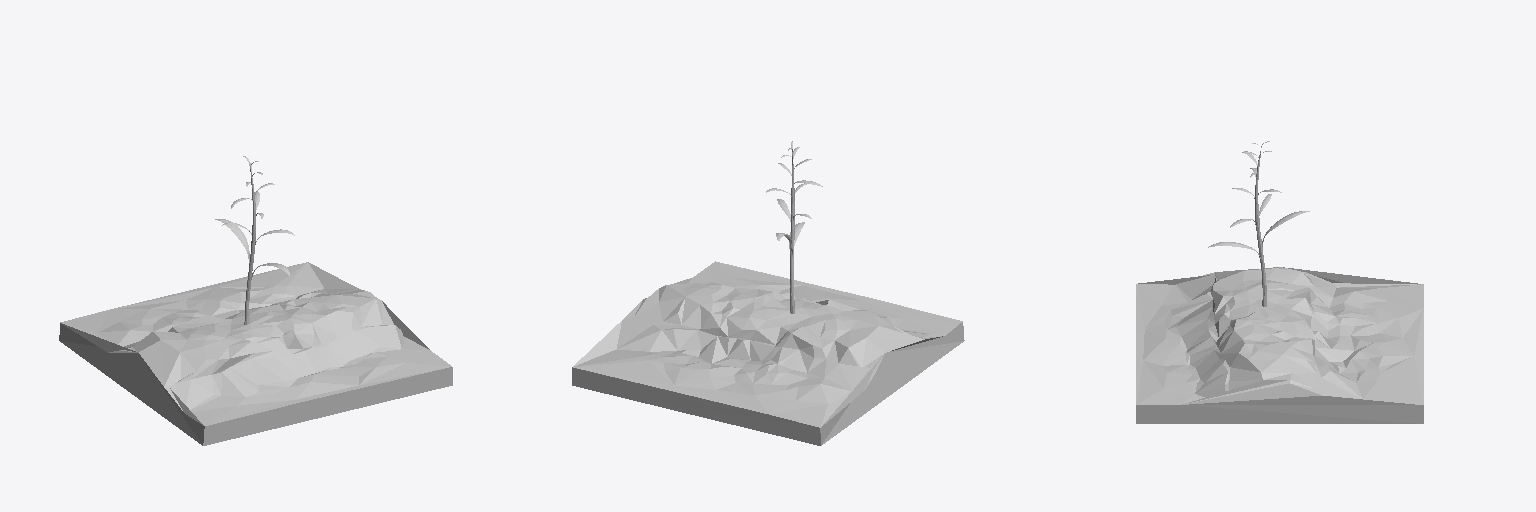
File: bedeng_kangkung_1.obj
3 views of the same model, side by side, from view 1: azimuth 30°, elevation 25°; view 2: azimuth 150°, elevation 25°; view 3: azimuth 270°, elevation 25° (orthographic).
Visible parts, largest first — view 1: PP_Meadow_Path_05_Scene.1042, NurbsPath.009_NurbsPath.001; view 2: PP_Meadow_Path_05_Scene.1042, NurbsPath.009_NurbsPath.001; view 3: PP_Meadow_Path_05_Scene.1042, NurbsPath.009_NurbsPath.001.
Part boxes in pixels (x1,y1,x2,y2): PP_Meadow_Path_05_Scene.1042: (59,262,452,445); NurbsPath.009_NurbsPath.001: (215,156,294,324); PP_Meadow_Path_05_Scene.1042: (572,261,964,445); NurbsPath.009_NurbsPath.001: (766,141,822,313); PP_Meadow_Path_05_Scene.1042: (1136,267,1423,423); NurbsPath.009_NurbsPath.001: (1208,141,1309,306).
Size of the model in its own units: 1 by 0.8222 by 1.